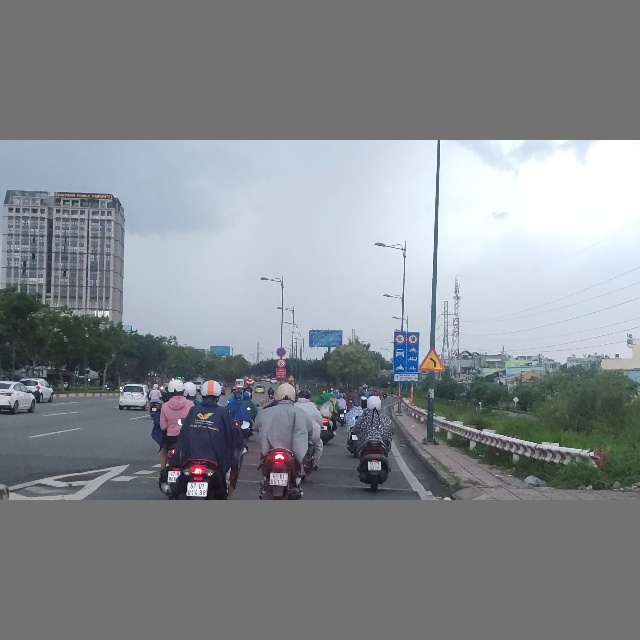P.111: (276, 359, 286, 368)
P.127*50: (406, 334, 418, 345), (395, 334, 406, 344)
P.130: (275, 347, 286, 357)
W.201a: (417, 347, 446, 372), (288, 374, 295, 381)
